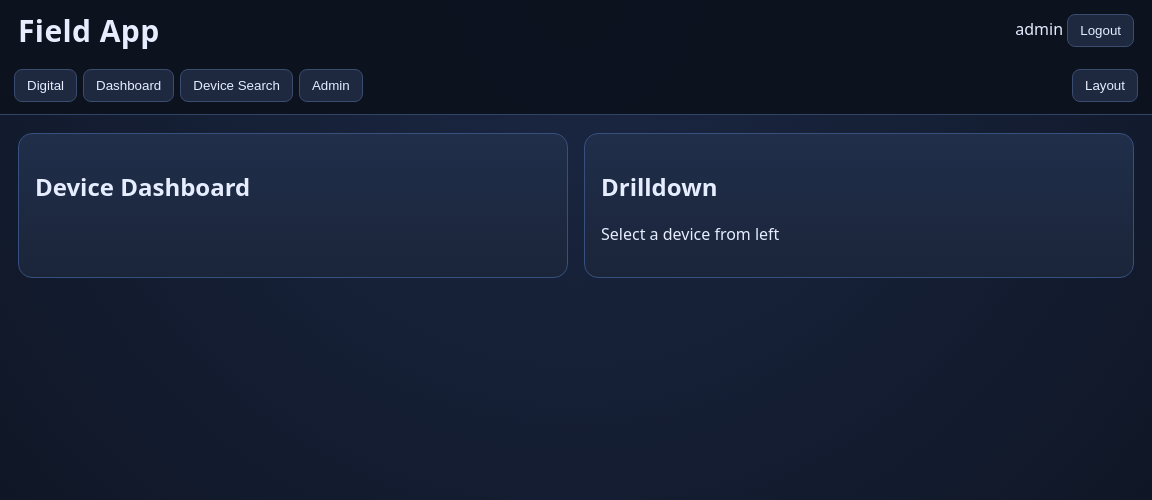
Test: App › shows only Digital Tools in digital dropdown from navigation data
This screenshot has width=1152, height=500.
Hover over the text "Digital".
mouse_move(46, 86)  # box [14,69,77,102]
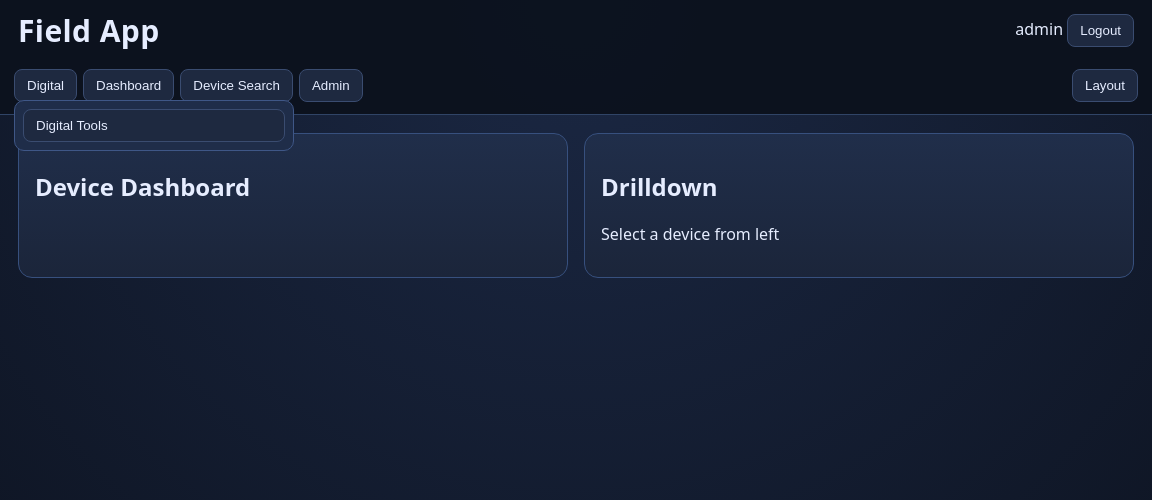
Expected: the button "Digital Tools" is shown, [23,109,285,142]
